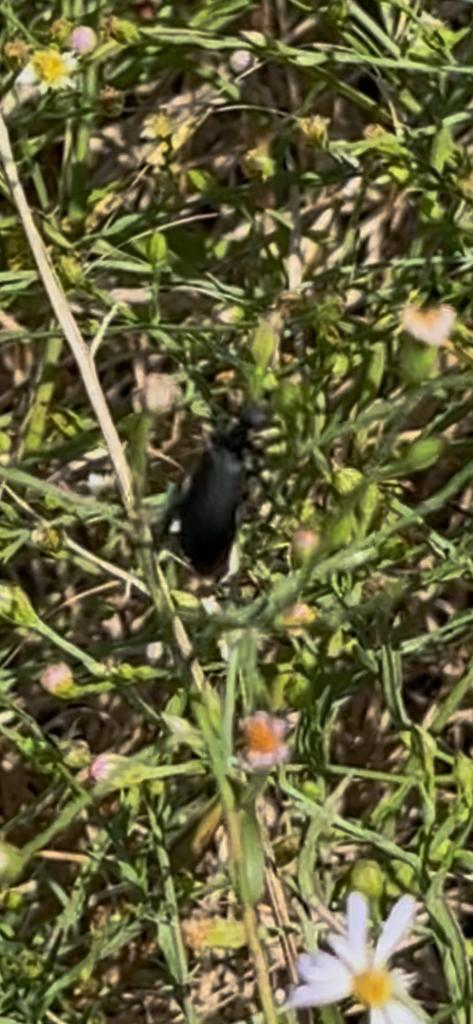blister_beetle: (119, 333, 339, 596)
